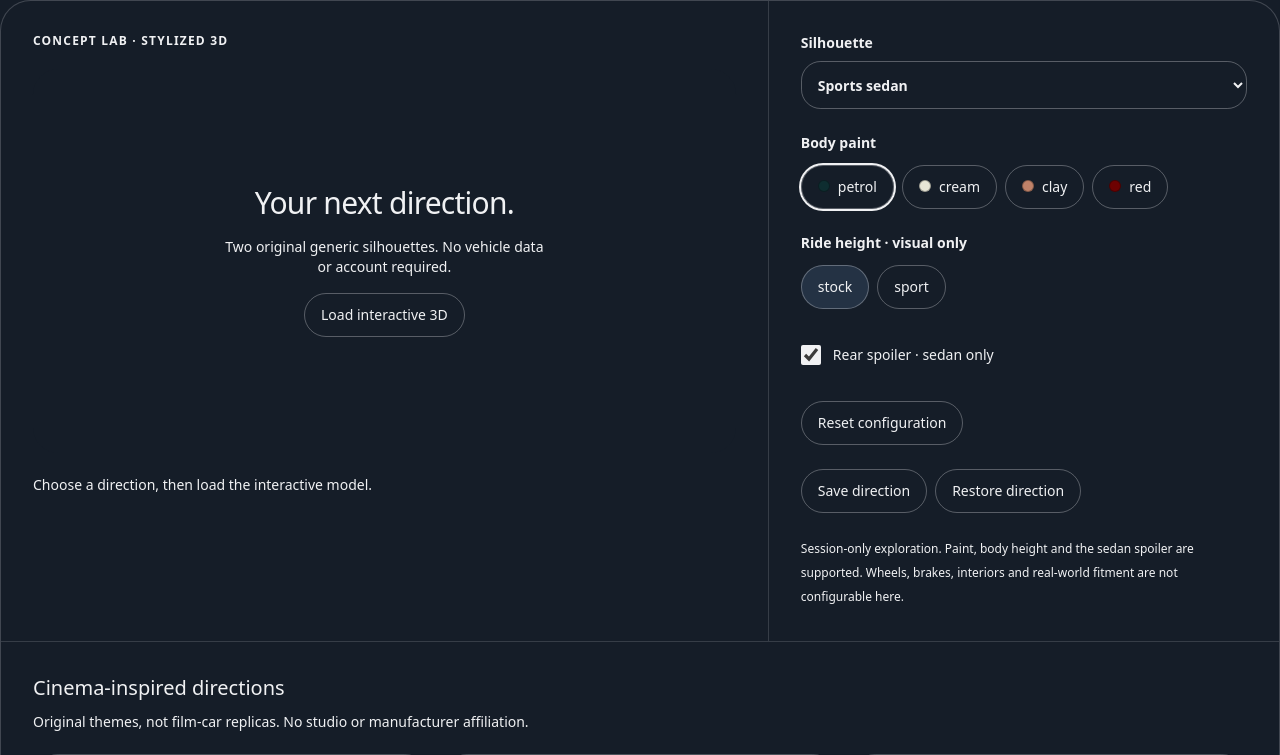
it: concept studio › keeps controls accessible when loading fails
Click the button "Load interactive 3D": x=384, y=315 [304,293,465,337]
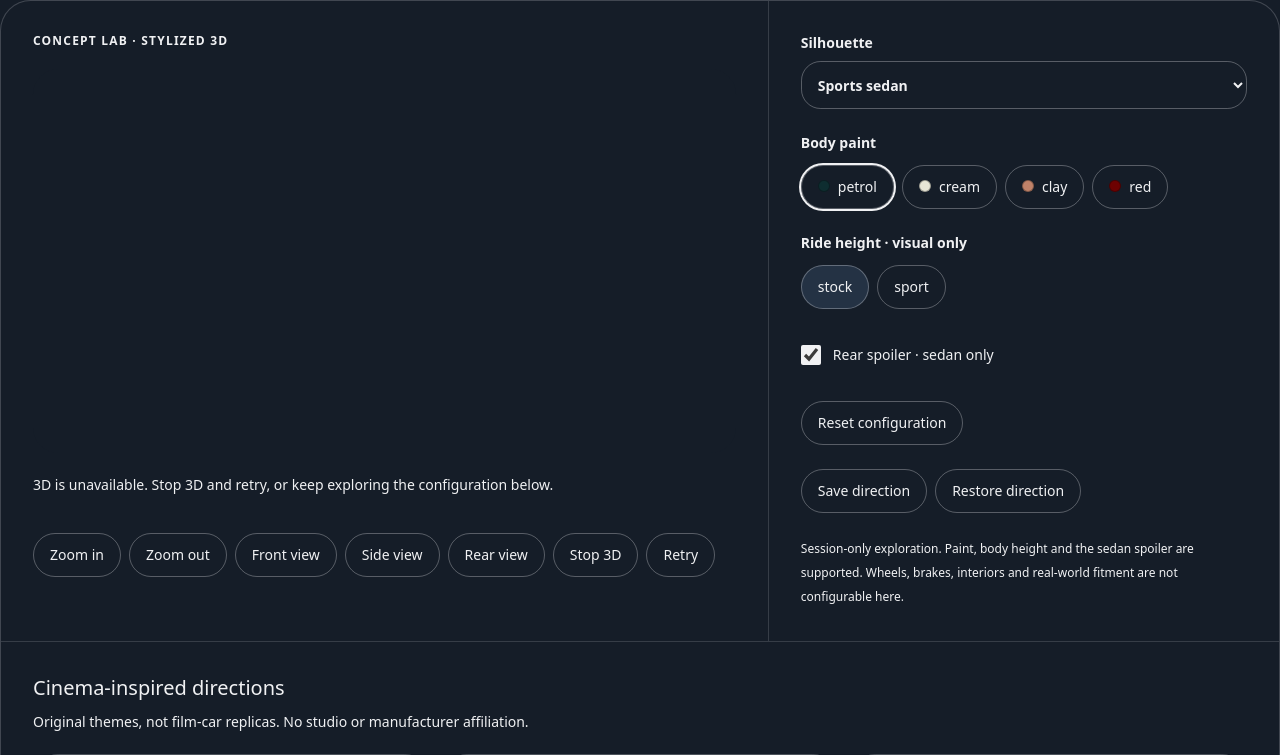
Expected: the button "cream" is enabled, [902,165,997,209]
Expected: the message shows "3D is unavailable", [33,475,553,494]
Expected: the button "Retry" is enabled, [646,533,715,577]
